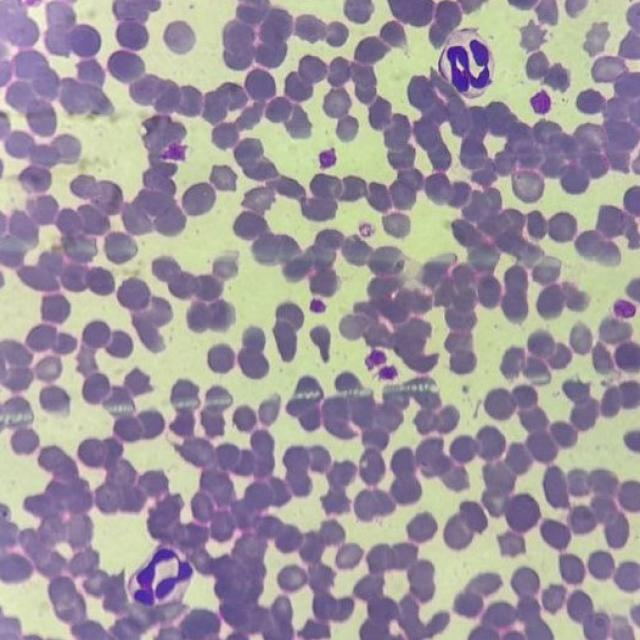Neutrofilo: (122, 539, 197, 610), (435, 29, 502, 98)
